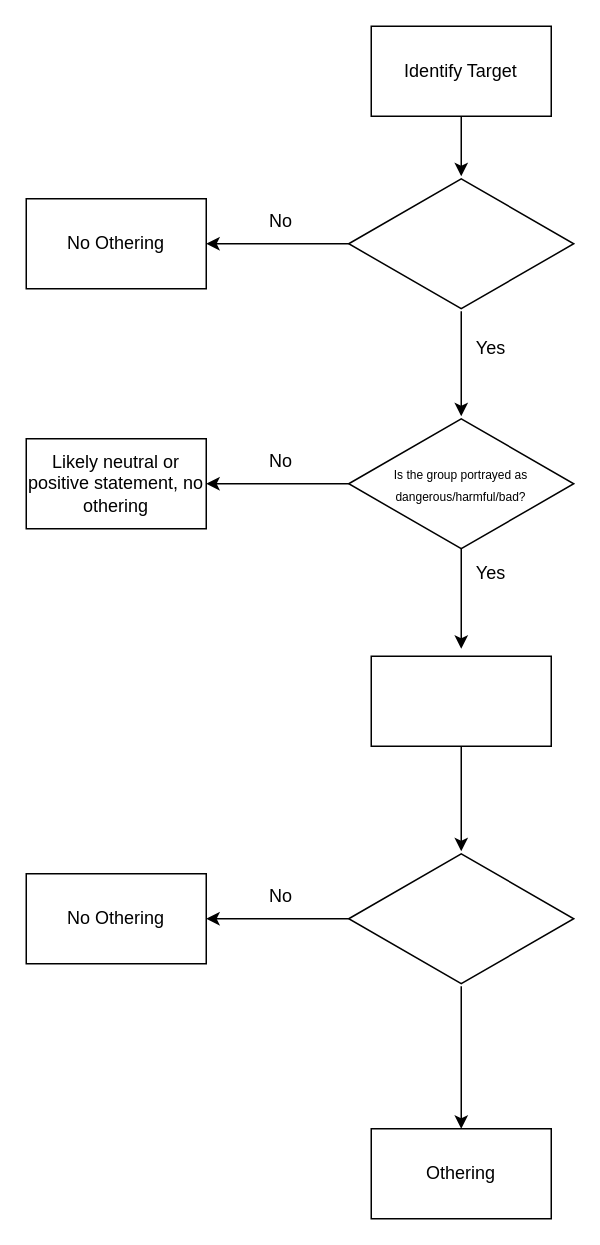
This 600x1245 diagram has some shape labels left out. Each missing label, with the centre of its shape:
"Does the statement lead to marginalization/exclusion/sense of us vs them?" belongs at (x=460, y=918).
"Identify unified group of mentioned subgroup" belongs at (x=460, y=700).
"Is social Group?" belongs at (x=460, y=243).
